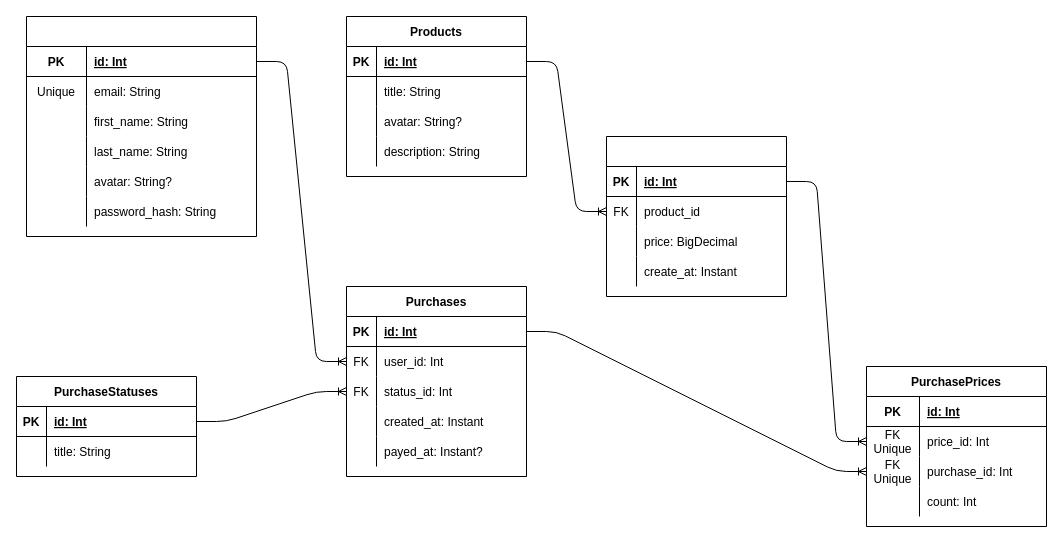
Some shapes in this 1063 by 543 pixel diagram are drawn without their labels. Each missing label, with the box of its shape:
Prices: (606, 136, 786, 296)
Users: (26, 16, 256, 236)
